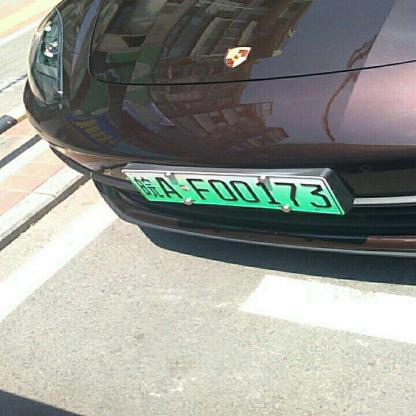lp: (124, 172, 340, 213)
